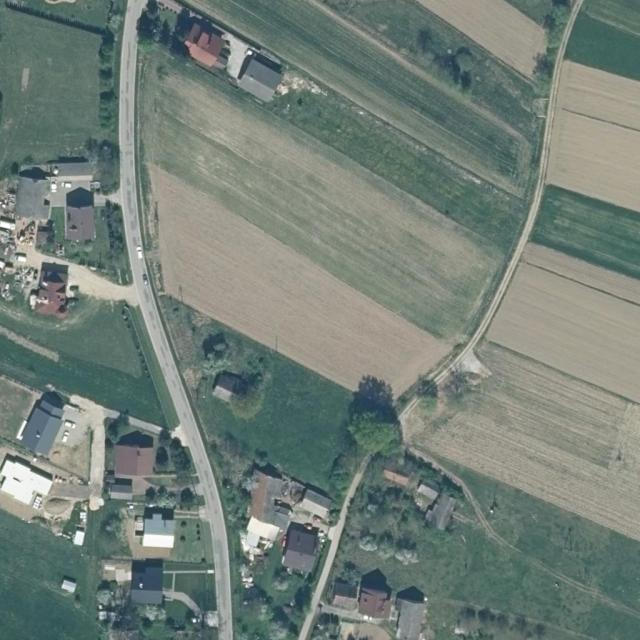agricultural_land: (412, 328, 640, 541), (430, 463, 640, 610), (184, 337, 364, 490), (485, 258, 640, 404), (0, 5, 101, 167), (0, 511, 99, 640), (520, 238, 640, 306), (551, 59, 640, 132), (563, 12, 640, 84)
building: (14, 386, 75, 459), (230, 48, 290, 106), (0, 451, 57, 512), (247, 462, 297, 531), (179, 17, 236, 72), (28, 259, 74, 317), (15, 165, 54, 221), (50, 158, 92, 208), (357, 567, 395, 620), (282, 522, 320, 574), (210, 31, 251, 79), (114, 430, 156, 476), (64, 187, 95, 242), (0, 215, 27, 274), (423, 491, 459, 532), (142, 506, 176, 548), (131, 559, 162, 604), (211, 370, 248, 405), (239, 523, 282, 552), (396, 600, 427, 640), (408, 481, 440, 513), (332, 577, 359, 610), (299, 497, 332, 521), (381, 468, 411, 488), (110, 478, 132, 500)
greenland: (157, 284, 264, 413), (83, 0, 125, 194), (205, 426, 273, 533), (134, 423, 205, 517), (40, 214, 136, 282), (235, 561, 313, 640), (429, 599, 576, 640), (339, 371, 403, 459), (356, 482, 419, 566), (309, 437, 367, 525), (103, 199, 129, 285), (105, 414, 125, 491), (310, 614, 340, 639)
unmetalled_road: (405, 435, 526, 561), (11, 242, 144, 313), (160, 583, 209, 620), (66, 392, 121, 424), (89, 408, 105, 511), (396, 395, 424, 423), (126, 417, 163, 436)
